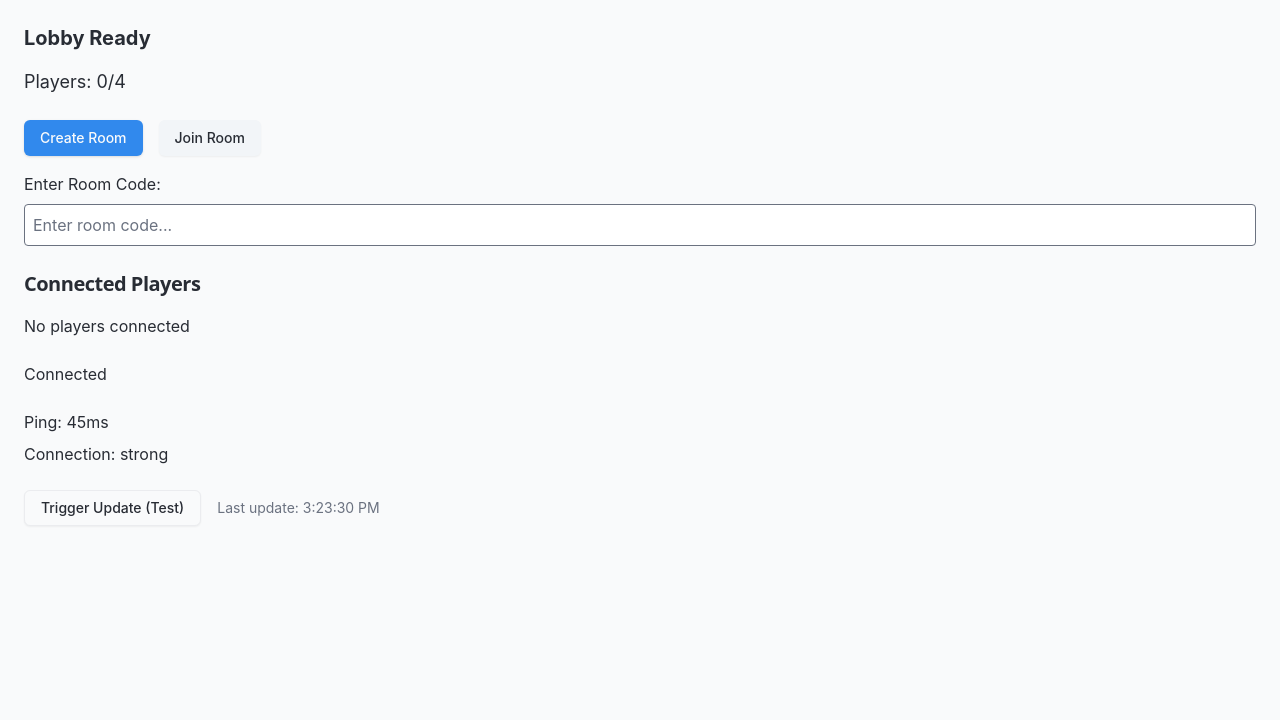
Test: Multiplayer Integration Tests (TDD CYCLE 4 GREEN Phase) › Phase GREEN - Tests qui doivent maintenant passer › should display connected players in real-time
# Créer une room pour avoir des joueurs
What coordinates should you click on to do the following:
click the button with test id "create-room-button"
I would click on:
 (83, 138)
Its box is x1=24 y1=120 x2=142 y2=156.
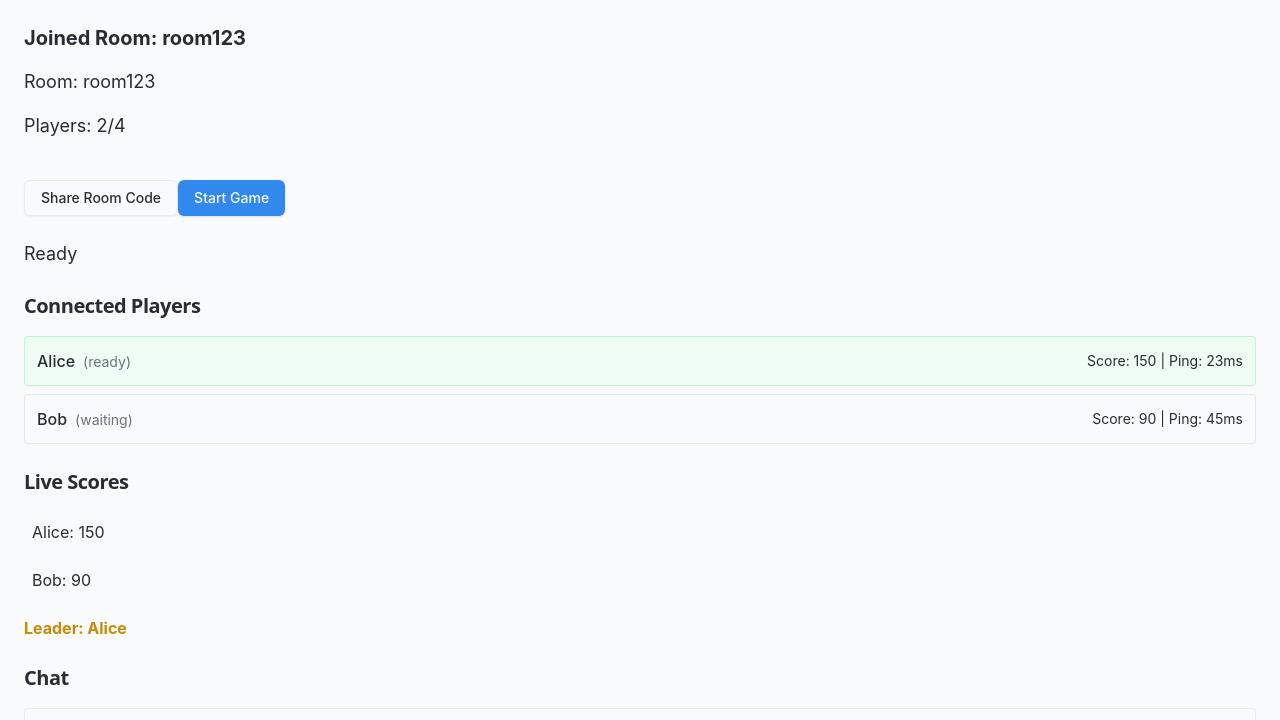
Check: the element with test id "player-alice" is shown, box x1=24 y1=336 x2=1256 y2=386
Check: the element with test id "player-bob" is shown, box x1=24 y1=394 x2=1256 y2=444
Check: the text with test id "player-count" reads "Players: 2/4", box x1=24 y1=115 x2=126 y2=136
